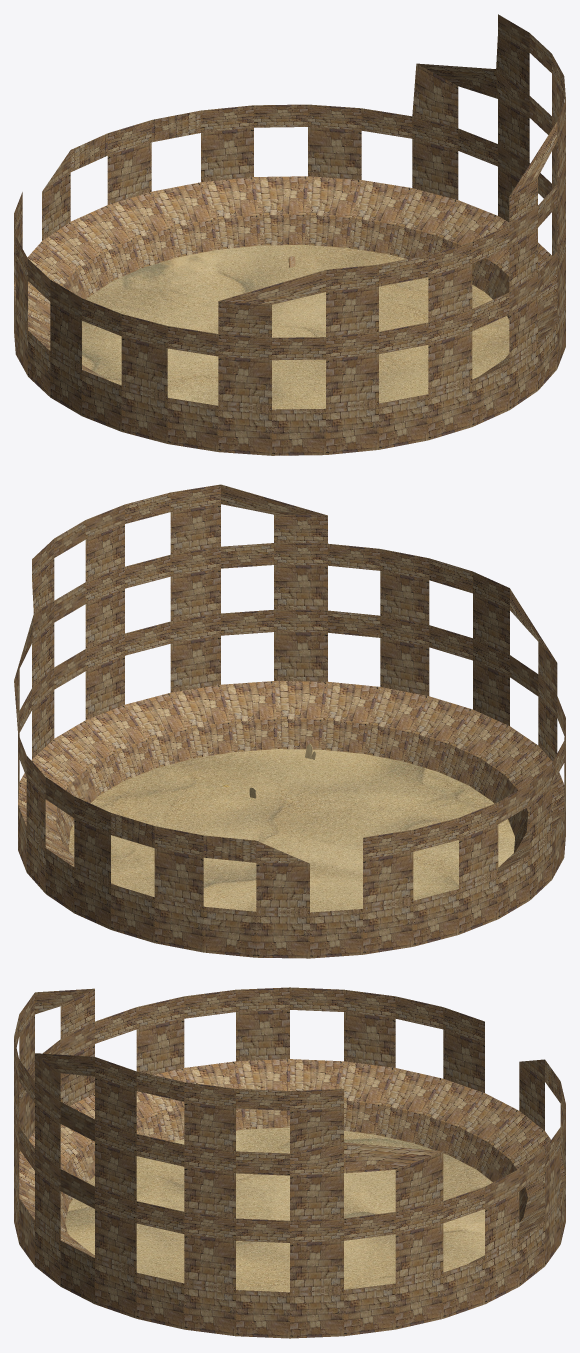
Rendered from Stage4.fbx.
3 renders of one model, top to bottom at view 1: azimuth 30°, elevation 25°; view 2: azimuth 150°, elevation 25°; view 3: azimuth 270°, elevation 25°, orthographic.
Parts seen in each view (by area): view 1: Cylinder; view 2: Cylinder; view 3: Cylinder.
Boxes of the visible parts, x1,y1,x2,y2 form: Cylinder: (14,14,565,455); Cylinder: (14,484,565,958); Cylinder: (14,987,565,1338).
Size of the model in its own units: 4126 by 2047 by 4126.
